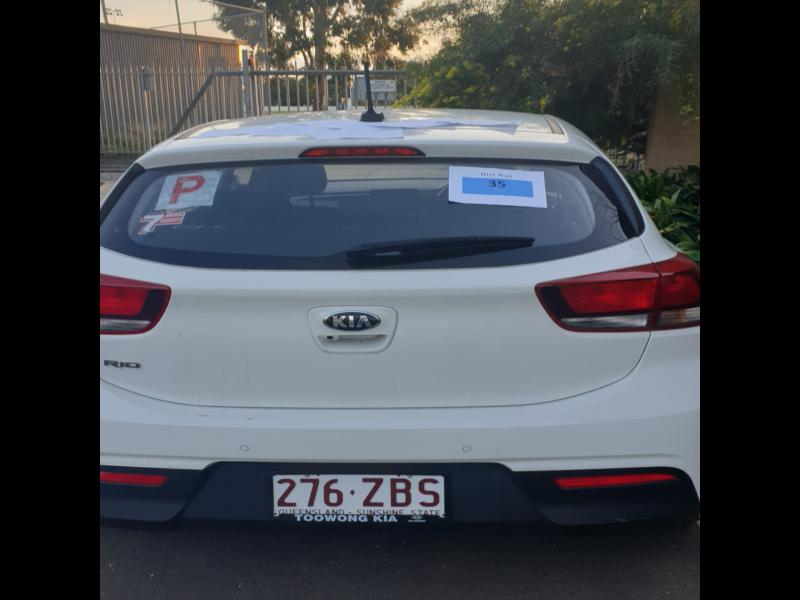BusRun: (461, 177, 533, 200)
PlateNo: (272, 470, 446, 511)
